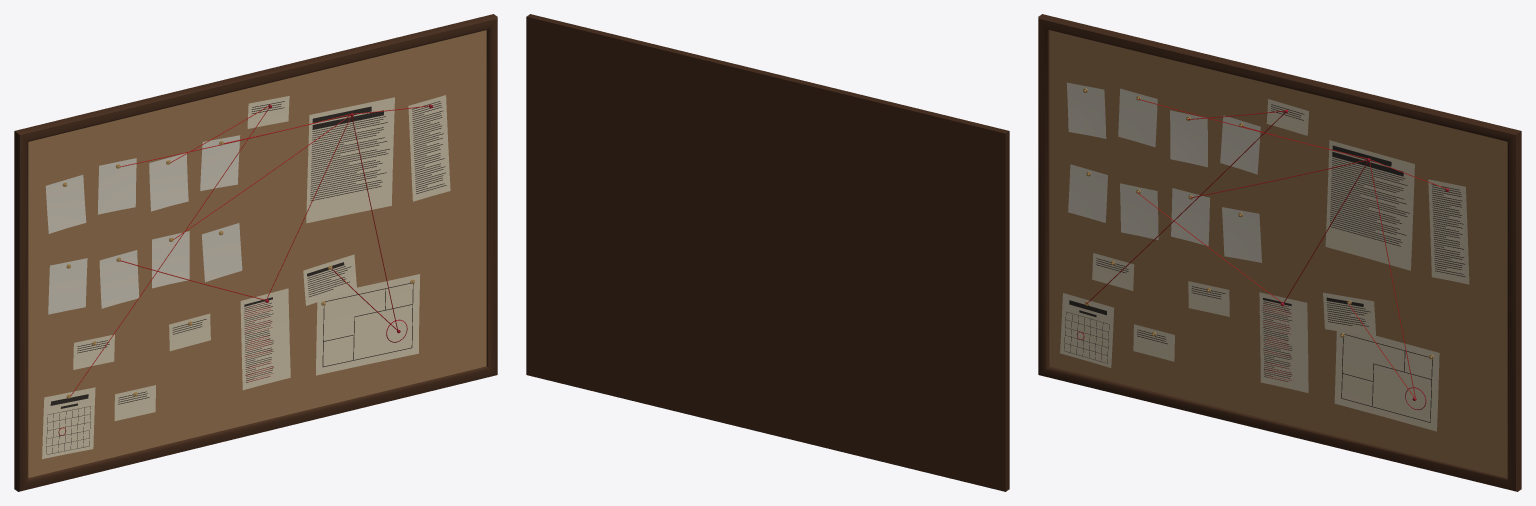
The model's file is evidence_board.glb.
The picture shows the model from 3 angles, left to right: view 1: azimuth 30°, elevation 25°; view 2: azimuth 150°, elevation 25°; view 3: azimuth 330°, elevation 25°; orthographic projection.
Visible parts, largest first — view 1: board, evidence_items, photo_2, photo_0, photo_5, photo_1, photo_4, photo_7, photo_3, photo_6; view 2: board; view 3: board, evidence_items, photo_0, photo_5, photo_7, photo_4, photo_1, photo_2, photo_6, photo_3.
Part boxes in pixels (box(x1,y1,x2,y2)): board: box(14, 14, 497, 491); evidence_items: box(42, 95, 450, 458); photo_2: box(149, 153, 188, 211); photo_0: box(45, 175, 86, 233); photo_5: box(99, 250, 139, 308); photo_1: box(97, 158, 136, 214); photo_4: box(48, 258, 87, 314); photo_7: box(201, 223, 242, 282); photo_3: box(200, 135, 240, 190); photo_6: box(152, 231, 189, 288); board: box(526, 14, 1009, 491); board: box(1038, 14, 1521, 491); evidence_items: box(1060, 88, 1469, 431); photo_0: box(1066, 82, 1106, 138); photo_5: box(1120, 183, 1158, 239); photo_7: box(1222, 207, 1261, 262); photo_4: box(1068, 164, 1107, 222); photo_1: box(1118, 88, 1157, 147); photo_2: box(1170, 110, 1207, 167); photo_6: box(1171, 188, 1209, 246); photo_3: box(1220, 115, 1260, 174).
Bounding box in the file's own units: 1.4 × 1 × 0.0362.
